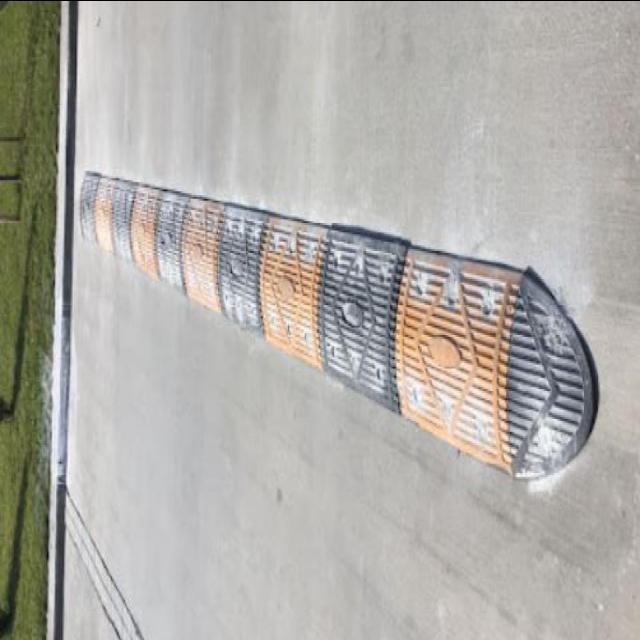Speed_Breaker: (69, 165, 602, 488), (74, 169, 603, 487)
